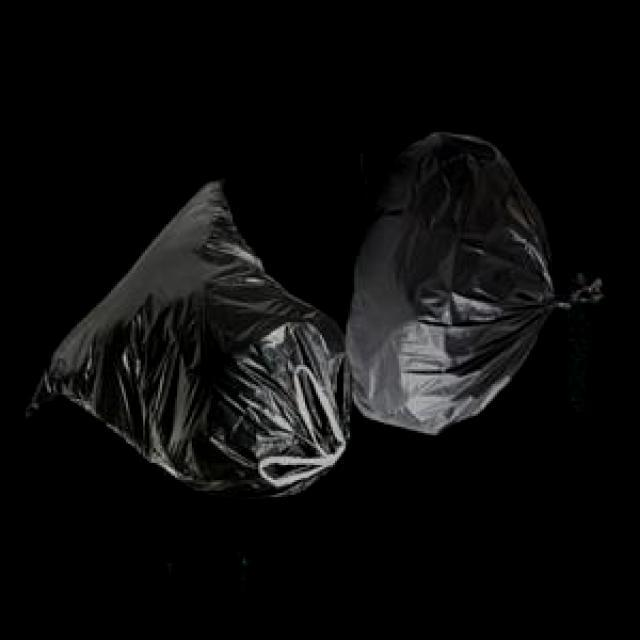Trashbag: (19, 173, 358, 505), (344, 119, 613, 445)
